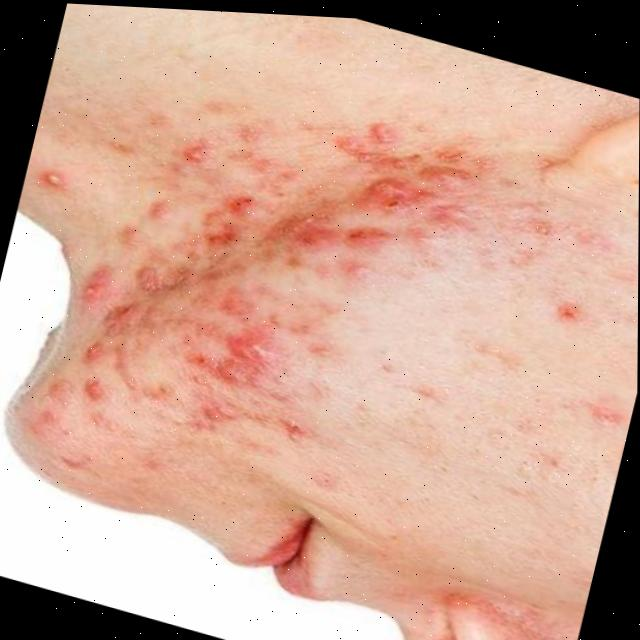Acne: (0, 28, 640, 599)
